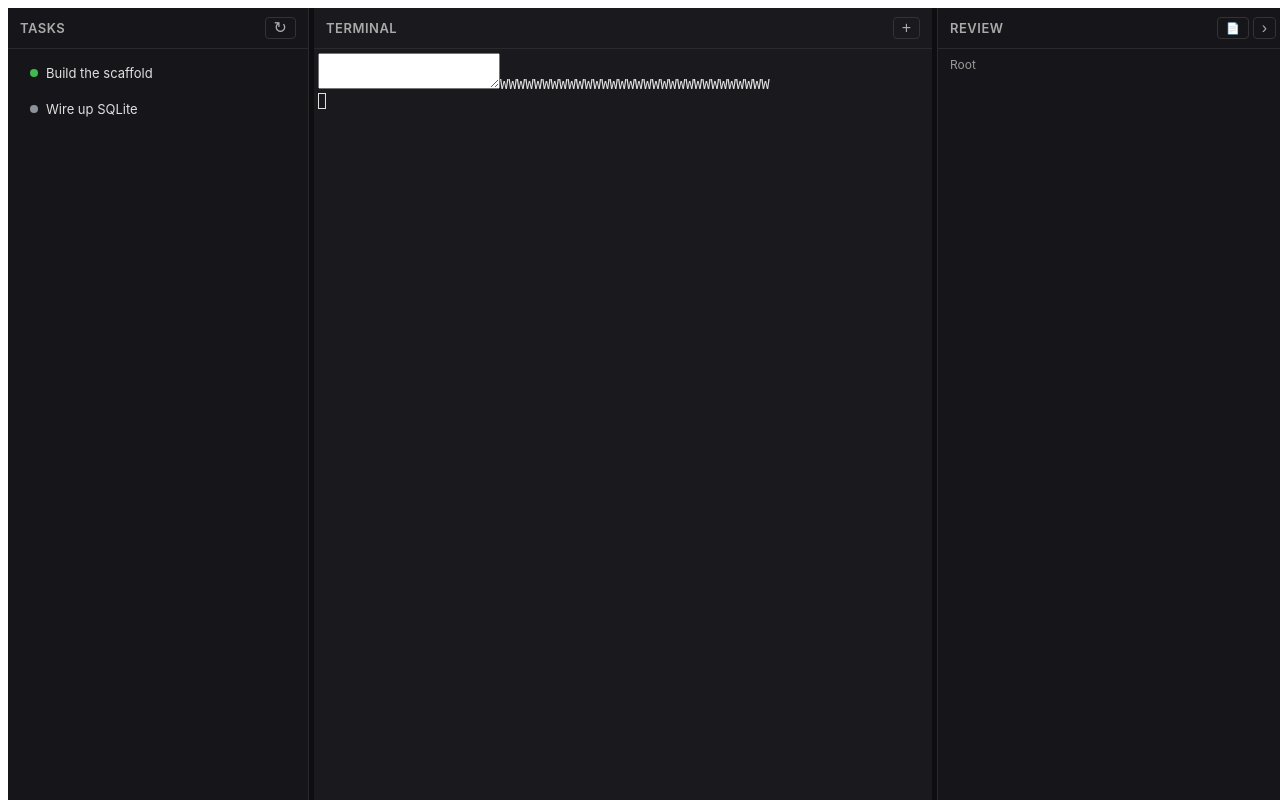
it: task list from DB › shows task details when a task is clicked
Step 1. Click the text "Build the scaffold" → (91, 73), box [30,65,153,81]
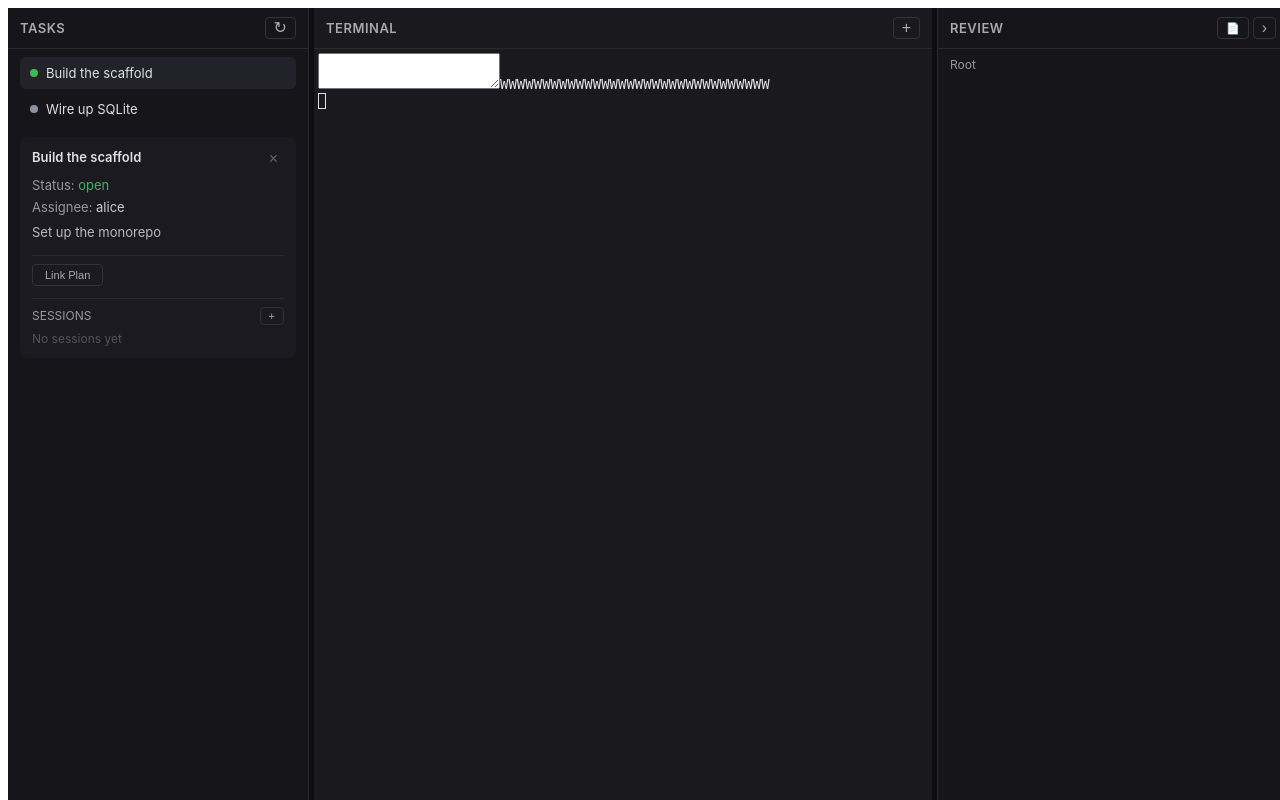
Expected: the text "Set up the monorepo" is shown, [32,224,161,240]
Expected: the text "alice" is shown, [96,199,125,215]
